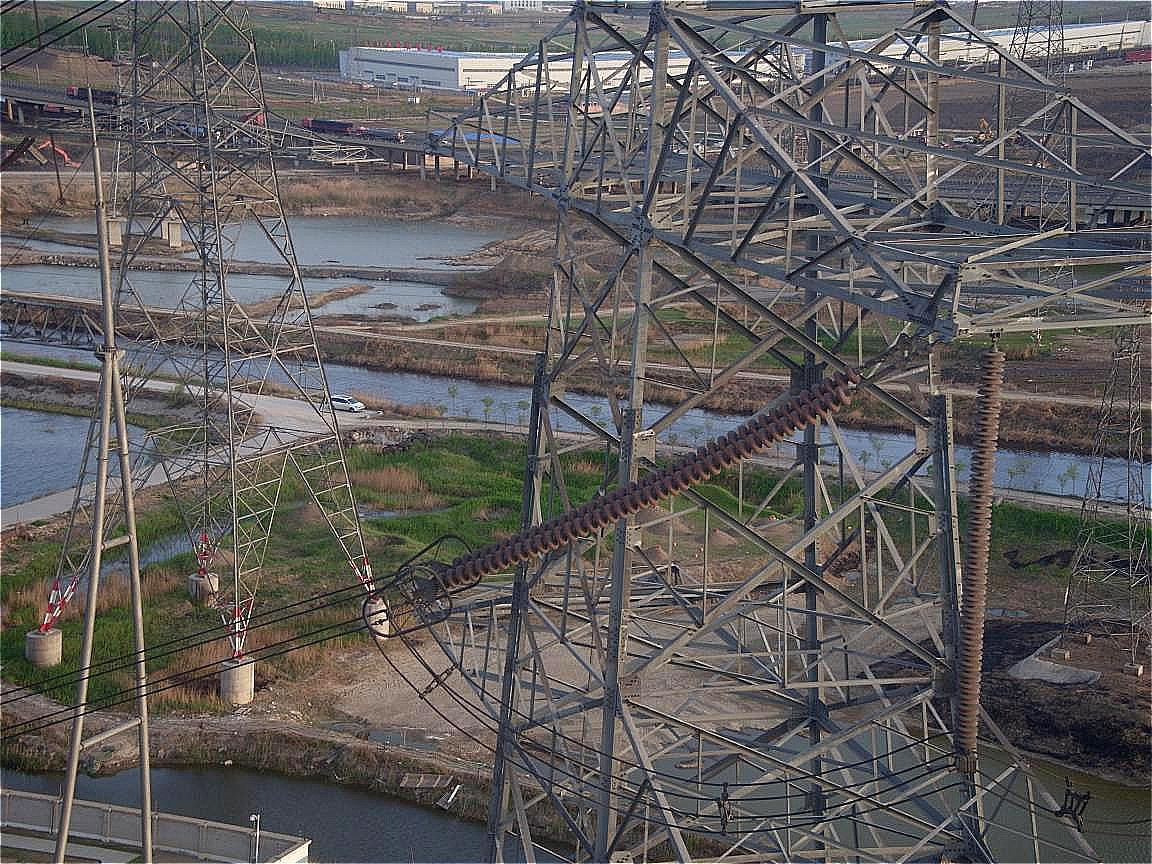insultor1: (414, 361, 871, 595)
insultor2: (956, 347, 1011, 766)
